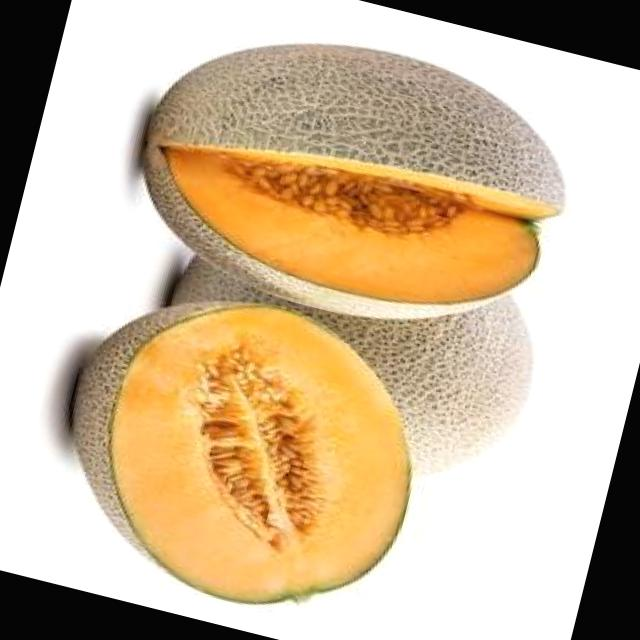cantaloupe: (111, 0, 593, 359), (32, 266, 446, 638)
